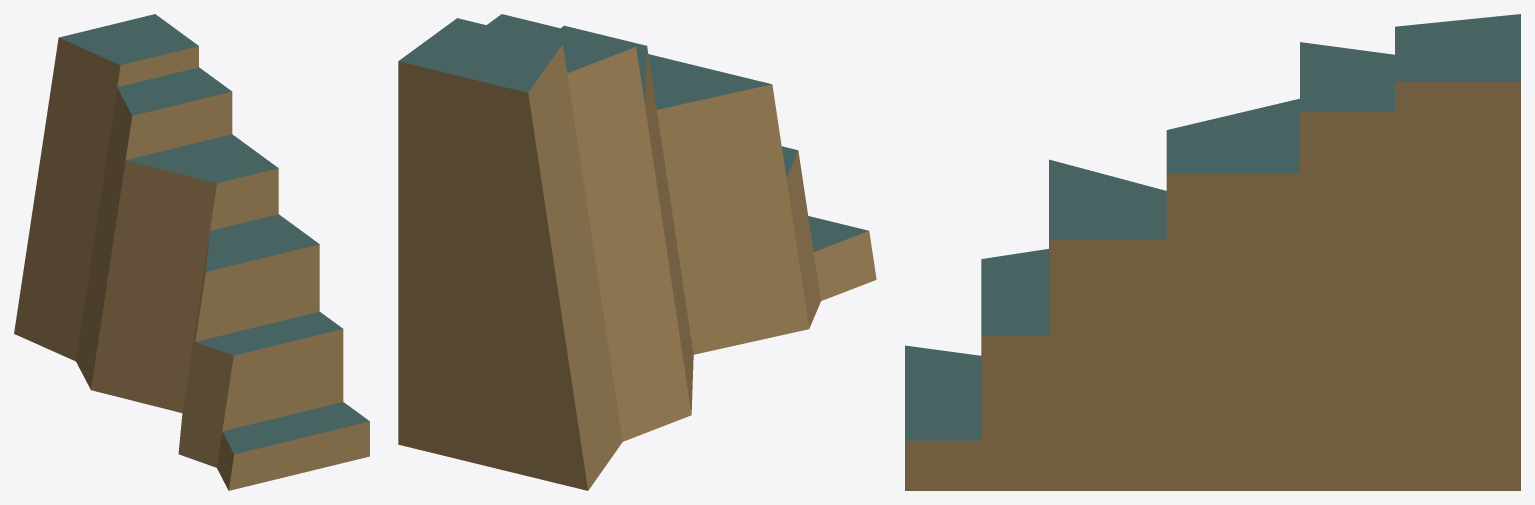
File: Brown_Cliff_End_Green_Top_01.fbx
The picture shows the model from 3 angles, left to right: view 1: azimuth 30°, elevation 25°; view 2: azimuth 150°, elevation 25°; view 3: azimuth 270°, elevation 25°; orthographic projection. The views are drawn at different scales.
Visible parts, largest first — view 1: Mesh1_Brown_Cliff_End_Green_Top Model; view 2: Mesh1_Brown_Cliff_End_Green_Top Model; view 3: Mesh1_Brown_Cliff_End_Green_Top Model.
Boxes of the visible parts, box(x1,y1,x2,y2) form: Mesh1_Brown_Cliff_End_Green_Top Model: box(14, 14, 369, 490); Mesh1_Brown_Cliff_End_Green_Top Model: box(398, 14, 876, 490); Mesh1_Brown_Cliff_End_Green_Top Model: box(905, 14, 1520, 490).
Size of the model in its own units: 1.14 by 2.2 by 3.
